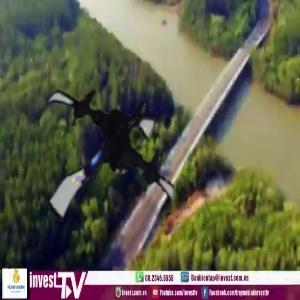drone: (19, 77, 192, 250)
